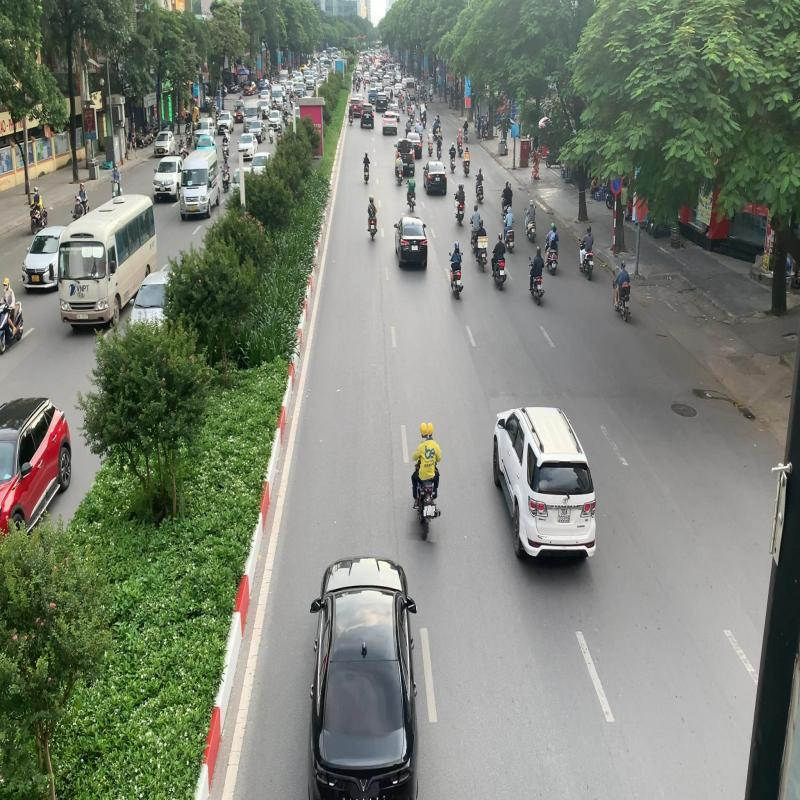helmet: (420, 422, 430, 438)
licenseplate: (426, 504, 435, 518)
motorcyclist: (408, 420, 444, 541)
